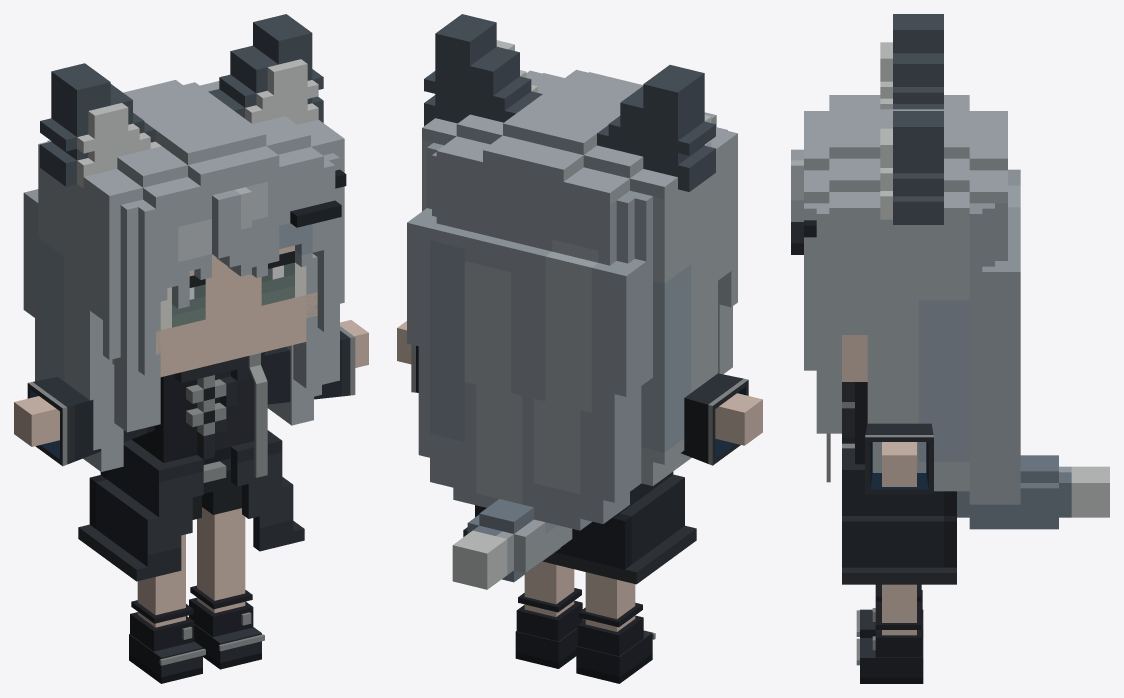
File: silver-wolf.glb
3 renders of one model, left to right at view 1: azimuth 30°, elevation 25°; view 2: azimuth 150°, elevation 25°; view 3: azimuth 270°, elevation 25°, orthographic. The views are drawn at different scales.
Parts seen in each view (by area): view 1: Hair, Ears, Fringe, SideHair_R, Coat_R, Head, Bodice, SideHair_L, Coat_L, Leg_L, Sleeve_R, Face (+15 smaller); view 2: Hair, Ears, LongHair_R, LongHair_L, SideHair_R, Coat_R, Tail, Sleeve_R, Leg_R, Arm_R, Leg_L, Sock_R (+6 smaller); view 3: Hair, SideHair_L, Ears, Coat_L, Tail, LongHair_L, Sleeve_L, Fringe, Bodice, Shoe_L, Arm_L, Leg_L (+4 smaller).
Boxes of the visible parts, left/top/right/bottom form: Hair: left=23, top=80, right=344, bottom=314; Ears: left=40, top=14, right=323, bottom=188; Fringe: left=132, top=157, right=335, bottom=316; SideHair_R: left=38, top=261, right=160, bottom=471; Coat_R: left=78, top=439, right=203, bottom=581; Head: left=112, top=245, right=317, bottom=376; Bodice: left=132, top=352, right=264, bottom=464; SideHair_L: left=267, top=252, right=344, bottom=425; Coat_L: left=231, top=430, right=304, bottom=551; Leg_L: left=197, top=507, right=245, bottom=613; Sleeve_R: left=27, top=377, right=154, bottom=466; Face: left=160, top=251, right=306, bottom=330; Hair: left=407, top=69, right=737, bottom=384; Ears: left=424, top=14, right=715, bottom=191; LongHair_R: left=522, top=359, right=652, bottom=533; LongHair_L: left=407, top=331, right=522, bottom=507; SideHair_R: left=641, top=254, right=737, bottom=485; Coat_R: left=555, top=471, right=696, bottom=584; Tail: left=452, top=499, right=572, bottom=589; Sleeve_R: left=681, top=373, right=748, bottom=465; Leg_R: left=585, top=572, right=635, bottom=631; Arm_R: left=715, top=393, right=762, bottom=445; Leg_L: left=524, top=561, right=574, bottom=616; Sock_R: left=577, top=615, right=643, bottom=656; Hair: left=804, top=95, right=1020, bottom=375; SideHair_L: left=804, top=310, right=969, bottom=491; Ears: left=880, top=14, right=943, bottom=224; Coat_L: left=842, top=448, right=956, bottom=584; Tail: left=957, top=455, right=1109, bottom=529; LongHair_L: left=969, top=376, right=1020, bottom=504; Sleeve_L: left=865, top=423, right=933, bottom=494; Fringe: left=791, top=149, right=829, bottom=277; Bodice: left=842, top=382, right=867, bottom=464; Shoe_L: left=860, top=638, right=923, bottom=677; Arm_L: left=882, top=442, right=916, bottom=486; Leg_L: left=882, top=584, right=916, bottom=635.
Size of the model in its own units: 2.56 by 4.34 by 2.13.
